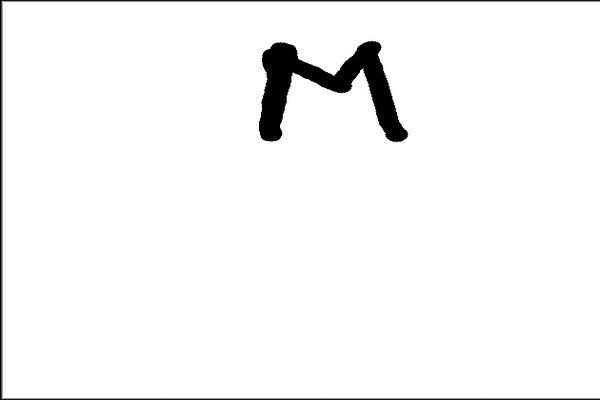M: (257, 36, 409, 148)
